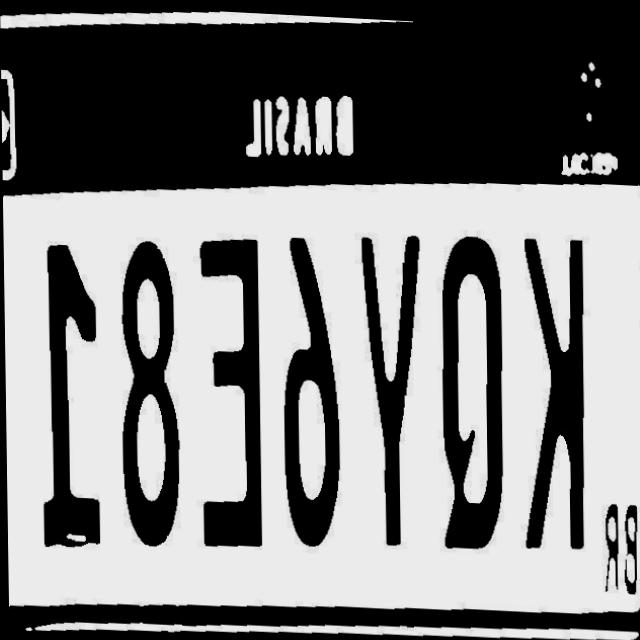1: (29, 237, 107, 555)
6: (271, 229, 347, 549)
8: (111, 232, 186, 552)
e: (191, 231, 266, 554)
k: (516, 224, 593, 553)
q: (437, 224, 510, 554)
y: (353, 225, 427, 556)
